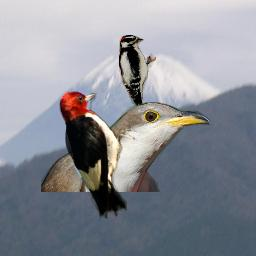Cuckoo: (41, 102, 210, 192)
Woodpecker: (58, 90, 137, 221), (119, 35, 156, 106)
